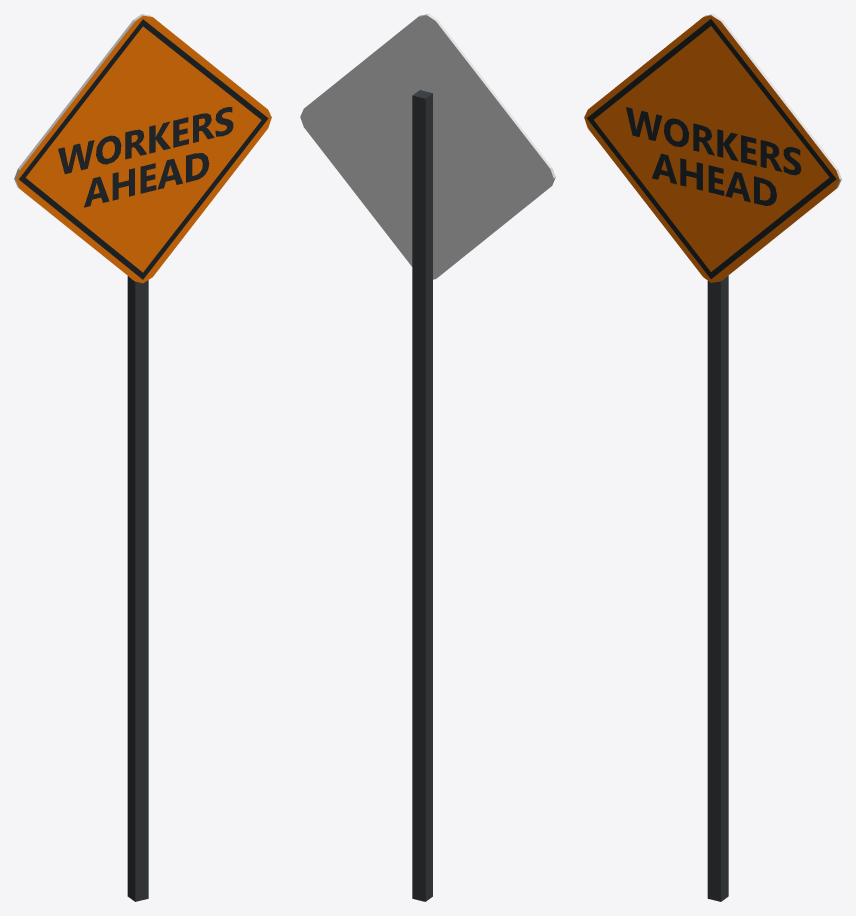
File: SM_FloorProps_RoadSign_25.fbx
3 views of the same model, side by side, from view 1: azimuth 30°, elevation 25°; view 2: azimuth 150°, elevation 25°; view 3: azimuth 330°, elevation 25° (orthographic).
Parts seen in each view (by area): view 1: SM_FloorProps_RoadSign_25; view 2: SM_FloorProps_RoadSign_25; view 3: SM_FloorProps_RoadSign_25.
Boxes of the visible parts, x1,y1,x2,y2 form: SM_FloorProps_RoadSign_25: (14, 14, 271, 901); SM_FloorProps_RoadSign_25: (300, 14, 555, 901); SM_FloorProps_RoadSign_25: (584, 14, 841, 901).
Size of the model in its own units: 0.8264 by 2.74 by 0.0567.
